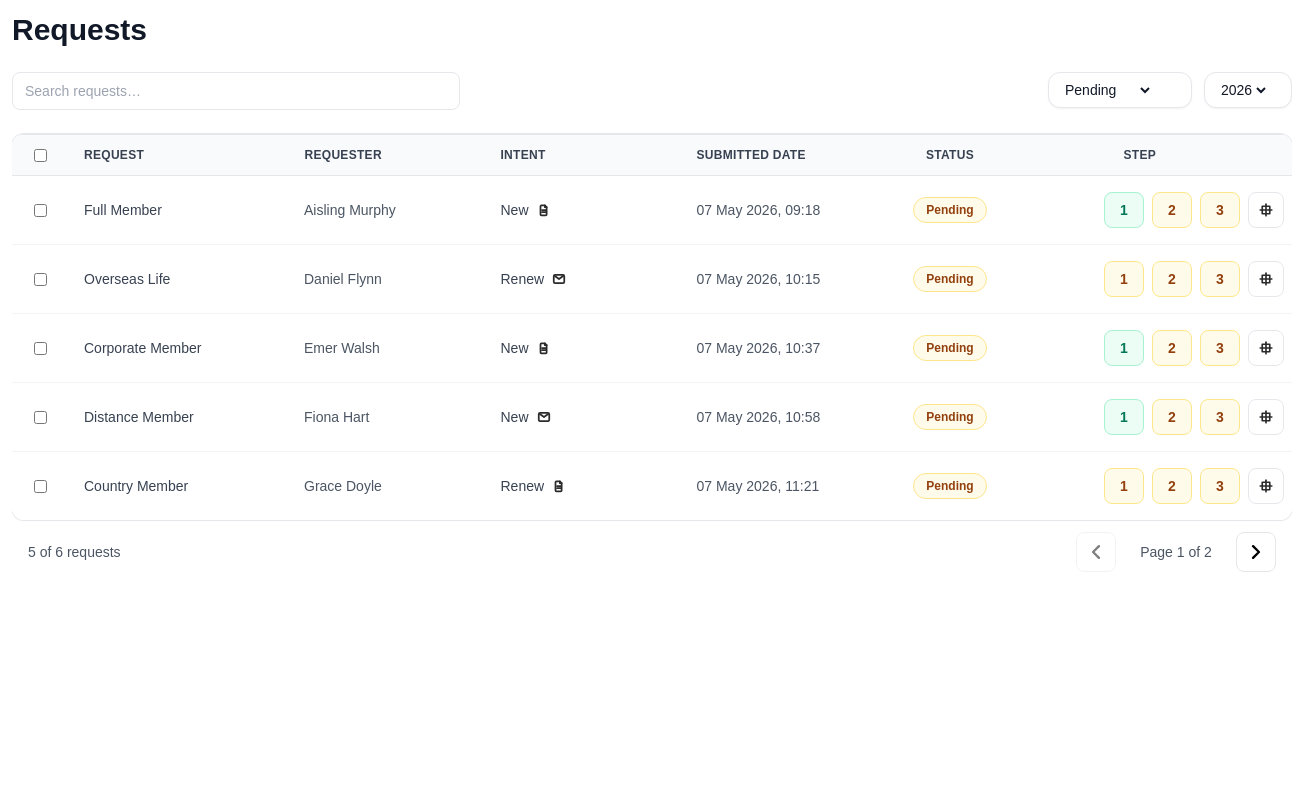
Test case: RequestsPage › styling › should allow the header checkbox to select all visible request rows
Click the checkbox named "select all visible requests".
click(40, 155)  # box [34,148,46,162]
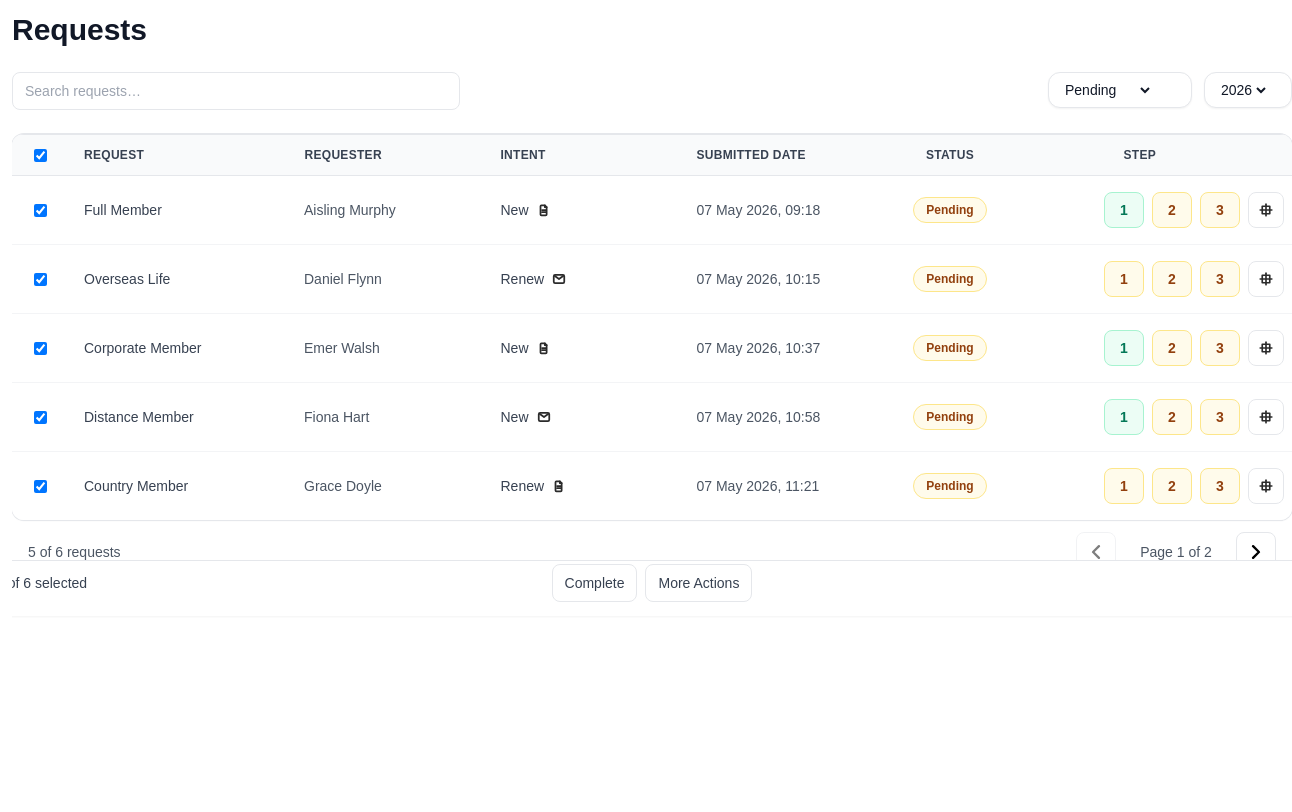
Result: the checkbox named "select all visible requests" is checked at [34,148,46,162]
Result: the checkbox named "select request req-" is checked at [34,204,46,216]
